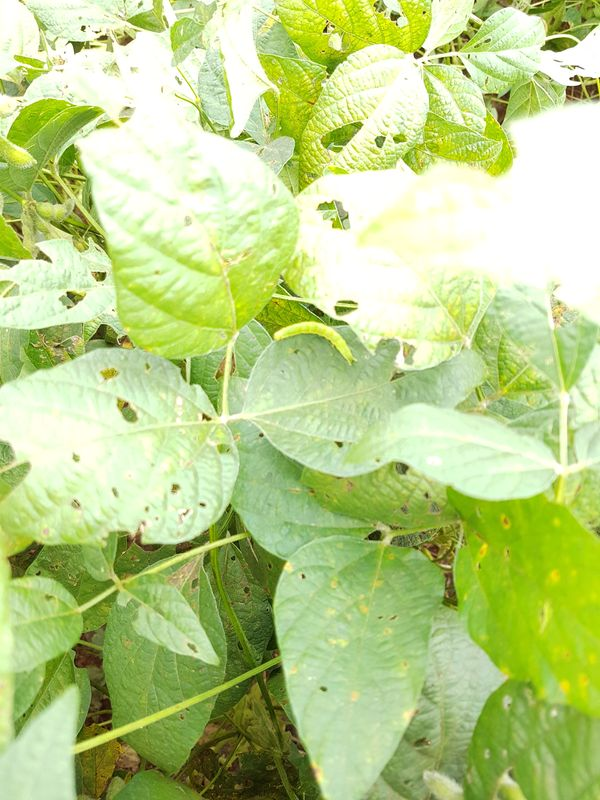Anticarsia_gemmatalis: (261, 305, 369, 382)
